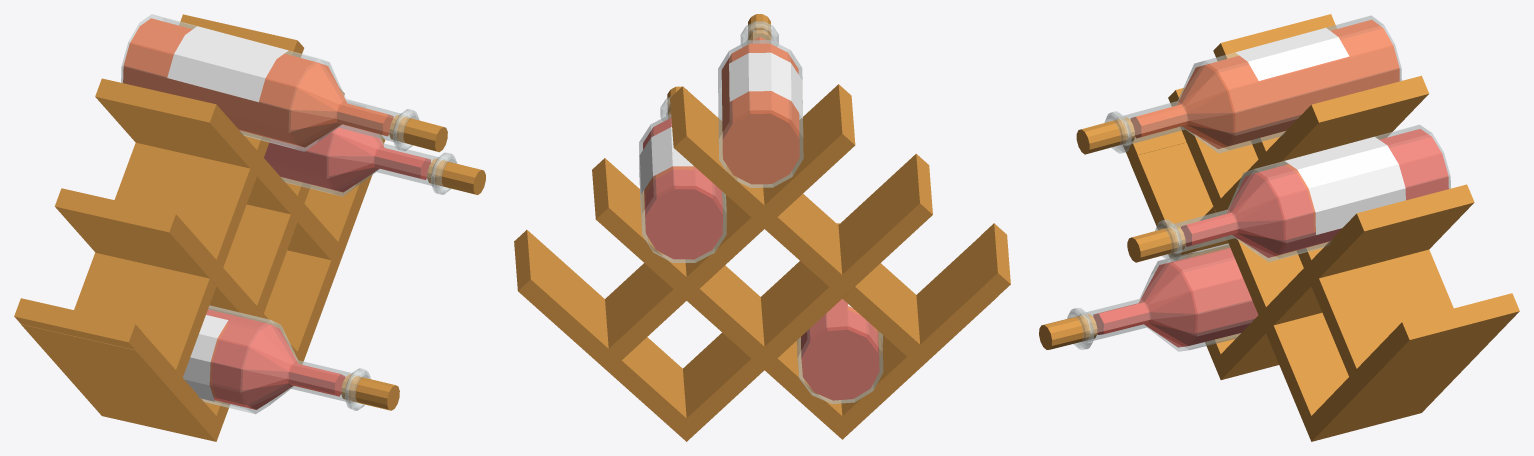
The model's file is wine-rack.glb.
3 renders of one model, left to right at view 1: azimuth 30°, elevation 25°; view 2: azimuth 150°, elevation 25°; view 3: azimuth 270°, elevation 25°, orthographic. The views are drawn at different scales.
Visible parts, largest first — view 1: group2104684028, group301574616, group995214035, group1912696350; view 2: group2104684028, group301574616, group1912696350, group995214035; view 3: group2104684028, group301574616, group1912696350, group995214035.
Boxes of the visible parts, left/top/right/bottom form: group2104684028: left=14, top=14, right=385, bottom=441; group301574616: left=121, top=14, right=447, bottom=152; group995214035: left=183, top=305, right=399, bottom=414; group1912696350: left=264, top=102, right=485, bottom=196; group2104684028: left=514, top=84, right=1010, bottom=441; group301574616: left=718, top=14, right=803, bottom=187; group1912696350: left=639, top=86, right=726, bottom=262; group995214035: left=797, top=223, right=883, bottom=403; group2104684028: left=1123, top=14, right=1519, bottom=441; group301574616: left=1076, top=15, right=1401, bottom=154; group1912696350: left=1127, top=124, right=1450, bottom=262; group995214035: left=1039, top=243, right=1258, bottom=351.
Bounding box in the file's own units: 1.31 × 0.9933 × 1.19.
